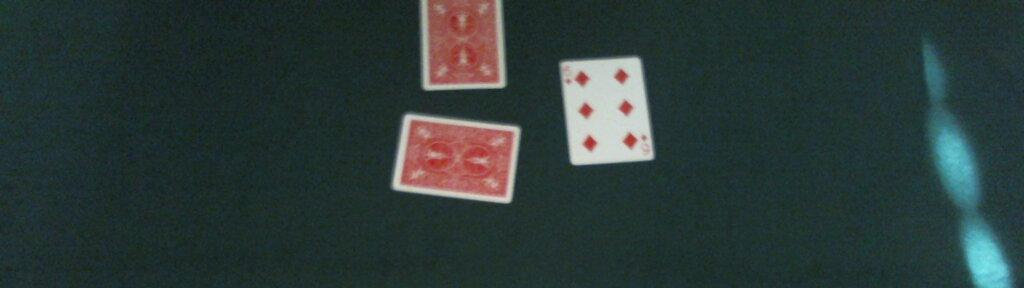back: (391, 110, 522, 202), (420, 1, 505, 89)
six: (558, 57, 653, 166)
